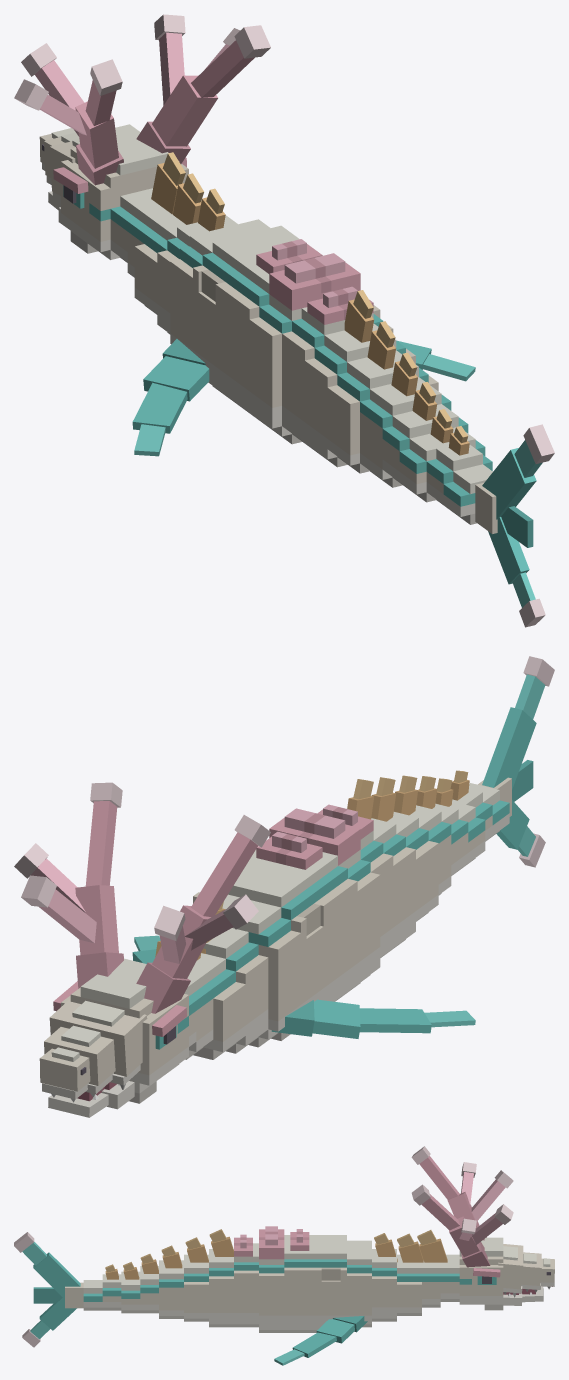
The model's file is CoralDragon.glb.
The picture shows the model from 3 angles, top to bottom: view 1: azimuth 30°, elevation 25°; view 2: azimuth 150°, elevation 25°; view 3: azimuth 270°, elevation 25°; orthographic projection. The views are drawn at different scales.
Visible parts, largest first — view 1: Head, S8, S7, Tail, S6, S10, S11, S9, FinL, S12, Head_Glow, S3 (+10 smaller); view 2: Head, S7, S6, S8, Tail, FinL, S5, Head_Glow, S4, S10, S3, S11 (+10 smaller); view 3: Head, S7, Tail, S6, S8, S10, S9, S4, S5, S11, S3, S12 (+10 smaller).
Boxes of the visible parts, bbox=[...] form: Head: bbox=[34, 32, 254, 259]; S8: bbox=[249, 253, 380, 444]; S7: bbox=[221, 239, 322, 427]; Tail: bbox=[475, 440, 542, 607]; S6: bbox=[193, 225, 299, 406]; S10: bbox=[305, 290, 415, 467]; S11: bbox=[327, 321, 438, 473]; S9: bbox=[282, 286, 393, 450]; FinL: bbox=[132, 339, 209, 456]; S12: bbox=[360, 352, 451, 487]; Head_Glow: bbox=[14, 14, 270, 110]; S3: bbox=[134, 173, 203, 314]; Head: bbox=[30, 801, 258, 1103]; S7: bbox=[248, 831, 357, 1001]; S6: bbox=[193, 861, 329, 1040]; S8: bbox=[269, 808, 380, 999]; Tail: bbox=[478, 674, 545, 856]; FinL: bbox=[271, 999, 475, 1038]; S5: bbox=[222, 894, 300, 1047]; Head_Glow: bbox=[14, 782, 270, 940]; S4: bbox=[201, 901, 268, 1053]; S10: bbox=[347, 779, 415, 955]; S3: bbox=[191, 952, 245, 1059]; S11: bbox=[371, 777, 438, 921]; Head: bbox=[419, 1156, 554, 1310]; S7: bbox=[284, 1229, 315, 1332]; Tail: bbox=[22, 1242, 83, 1339]; S6: bbox=[315, 1235, 346, 1332]; S8: bbox=[259, 1226, 284, 1332]; S10: bbox=[209, 1229, 233, 1327]; S9: bbox=[234, 1234, 258, 1327]; S4: bbox=[372, 1233, 397, 1321]; S5: bbox=[347, 1240, 371, 1327]; S11: bbox=[184, 1237, 208, 1321]; S3: bbox=[397, 1233, 423, 1315]; S12: bbox=[159, 1245, 183, 1318].
Bounding box in the file's own units: 15.64 × 14.25 × 38.88.
